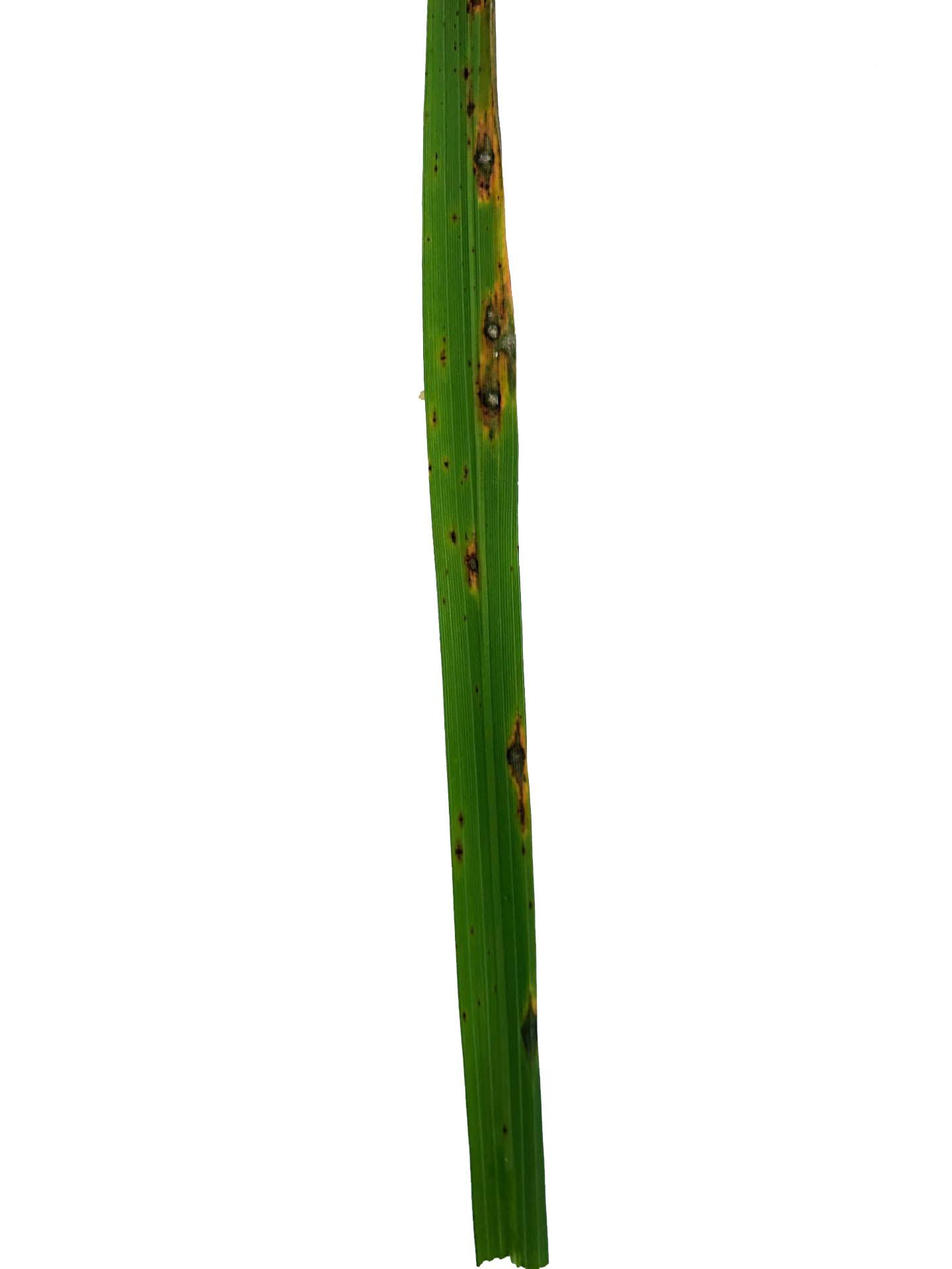Rice blast: (466, 268, 519, 436), (450, 93, 512, 208)
